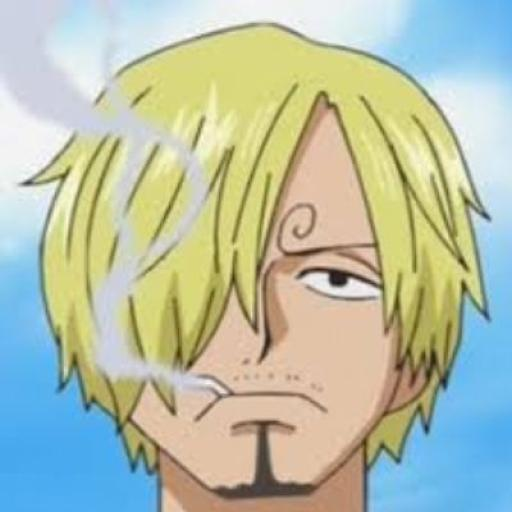sanji: (24, 14, 503, 512)
